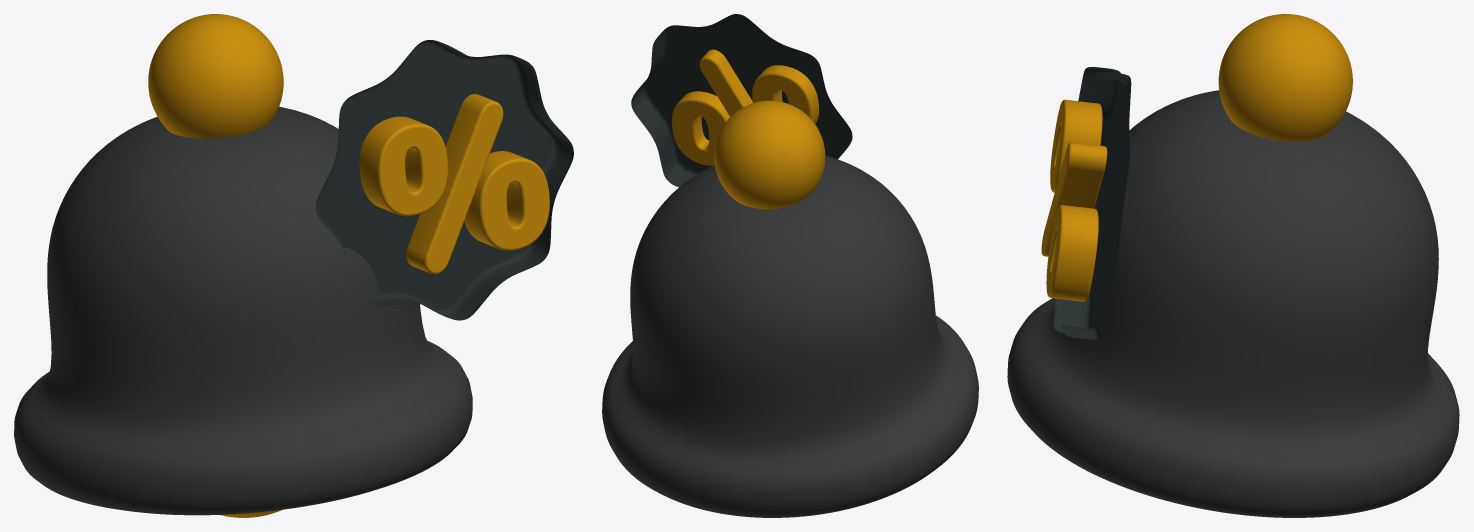
The model's file is response.glb.
3 views of the same model, side by side, from view 1: azimuth 30°, elevation 25°; view 2: azimuth 150°, elevation 25°; view 3: azimuth 270°, elevation 25° (orthographic). The views are drawn at different scales.
Parts seen in each view (by area): view 1: Cylinder, Circle, Text.003, Sphere; view 2: Cylinder, Circle, Sphere, Text.003; view 3: Cylinder, Sphere, Text.003, Circle.
Boxes of the visible parts, left/top/right/bottom form: Cylinder: left=14, top=106, right=472, bottom=515; Circle: left=316, top=40, right=573, bottom=320; Text.003: left=359, top=94, right=549, bottom=274; Sphere: left=148, top=14, right=283, bottom=138; Cylinder: left=602, top=155, right=978, bottom=517; Circle: left=631, top=14, right=852, bottom=187; Sphere: left=714, top=100, right=825, bottom=209; Text.003: left=672, top=49, right=818, bottom=165; Cylinder: left=1007, top=90, right=1459, bottom=517; Sphere: left=1218, top=14, right=1352, bottom=141; Text.003: left=1041, top=99, right=1107, bottom=301; Circle: left=1053, top=67, right=1131, bottom=339.
Size of the model in its own units: 4.13 by 4.16 by 3.59.
